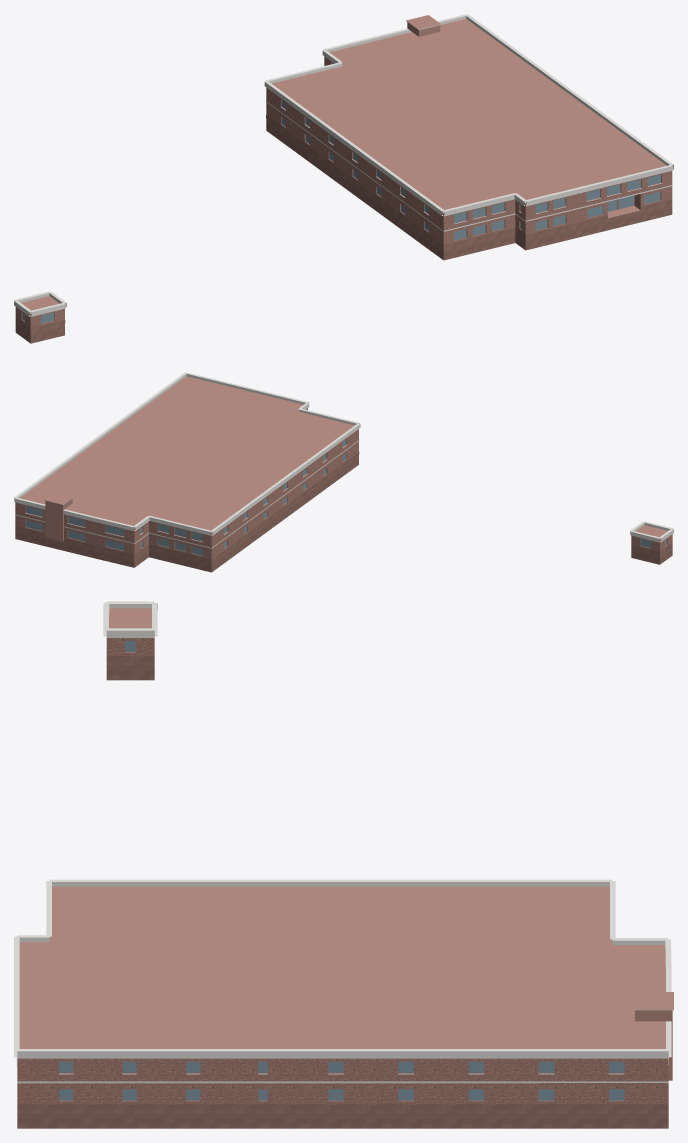
3 renders of one model, top to bottom at view 1: azimuth 30°, elevation 25°; view 2: azimuth 150°, elevation 25°; view 3: azimuth 270°, elevation 25°, orthographic. The views are drawn at different scales.
Parts seen in each view (by area): view 1: practiceBldgN9__roof, practiceBldgN9__wall, practiceBldgN9__trim, practiceBldgN9__base, practiceBldgN9__glass; view 2: practiceBldgN9__roof, practiceBldgN9__wall, practiceBldgN9__base, practiceBldgN9__trim, practiceBldgN9__glass, practiceBldgN9__wall2; view 3: practiceBldgN9__roof, practiceBldgN9__wall, practiceBldgN9__base, practiceBldgN9__trim, practiceBldgN9__glass.
Boxes of the visible parts, x1=… form: practiceBldgN9__roof: x1=21, y1=15, x2=666, y2=314; practiceBldgN9__wall: x1=15, y1=56, x2=672, y2=331; practiceBldgN9__trim: x1=14, y1=14, x2=673, y2=316; practiceBldgN9__base: x1=15, y1=115, x2=672, y2=343; practiceBldgN9__glass: x1=22, y1=63, x2=661, y2=323; practiceBldgN9__roof: x1=20, y1=376, x2=667, y2=540; practiceBldgN9__wall: x1=15, y1=408, x2=672, y2=562; practiceBldgN9__base: x1=15, y1=452, x2=672, y2=572; practiceBldgN9__trim: x1=14, y1=372, x2=673, y2=548; practiceBldgN9__glass: x1=25, y1=439, x2=666, y2=555; practiceBldgN9__wall2: x1=45, y1=498, x2=72, y2=541; practiceBldgN9__roof: x1=19, y1=608, x2=673, y2=1048; practiceBldgN9__wall: x1=17, y1=634, x2=668, y2=1104; practiceBldgN9__base: x1=17, y1=656, x2=668, y2=1128; practiceBldgN9__trim: x1=14, y1=601, x2=673, y2=1083; practiceBldgN9__glass: x1=59, y1=641, x2=624, y2=1100.
Size of the model in its own units: 134 by 11.9 by 78.53.
8 materials, 2 textured.
